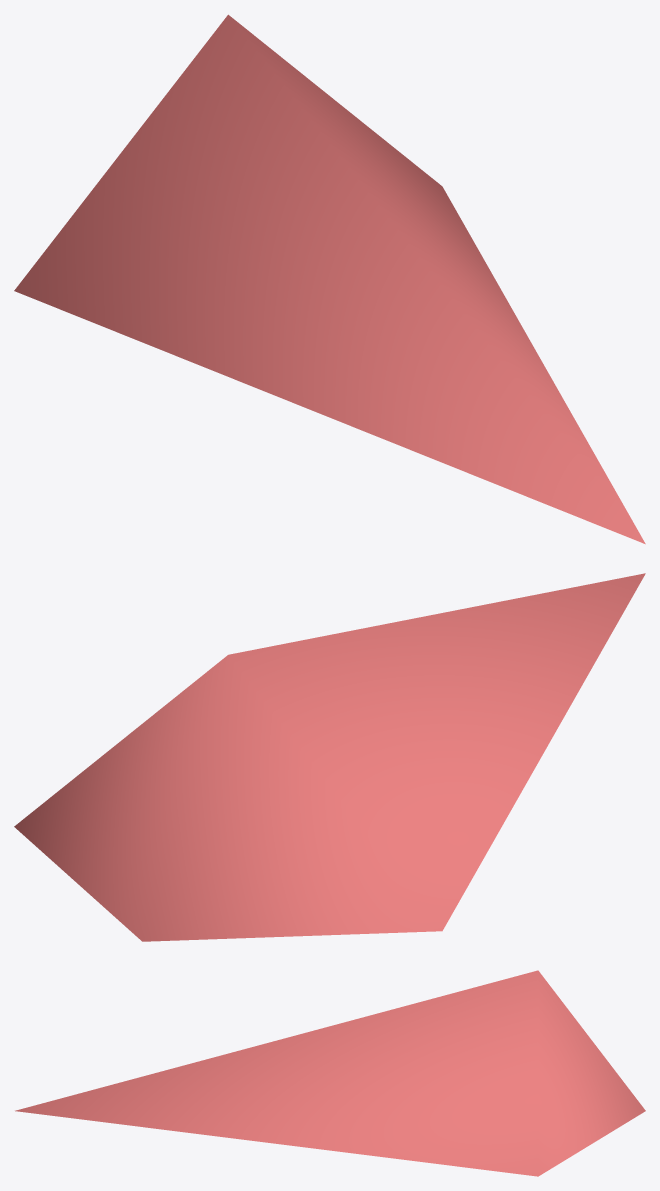
File: 1_pointer1.glb
3 views of the same model, one above another, from view 1: azimuth 30°, elevation 25°; view 2: azimuth 150°, elevation 25°; view 3: azimuth 270°, elevation 25° (orthographic). The views are drawn at different scales.
Parts seen in each view (by area): view 1: 01 Mesh4, 01 Mesh2; view 2: 01 Mesh4, 01 Mesh5, 01 Mesh3; view 3: 01 Mesh2, 01 Mesh3.
Part boxes in pixels (x1,y1,x2,y2): 01 Mesh4: (14,14,645,544); 01 Mesh2: (229,15,645,543); 01 Mesh4: (228,573,645,930); 01 Mesh5: (142,655,441,941); 01 Mesh3: (14,655,227,941); 01 Mesh2: (15,970,538,1176); 01 Mesh3: (538,971,645,1176).
Size of the model in its own units: 0.6 by 0.3075 by 1.22.
